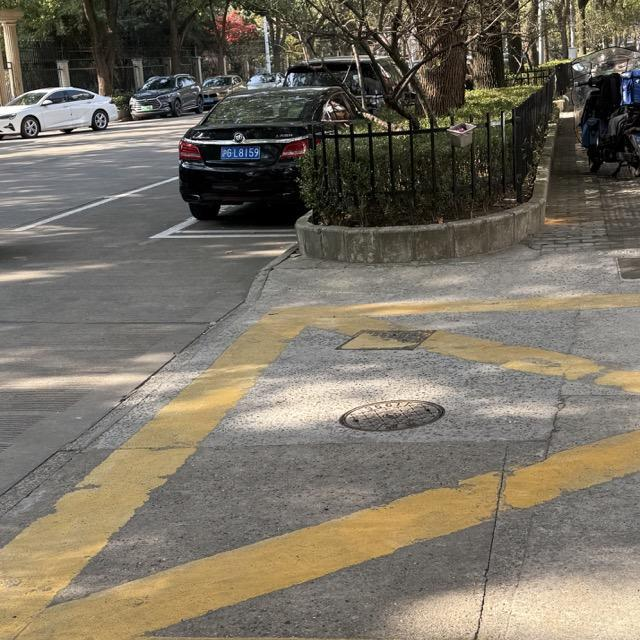curb: (0, 242, 298, 518), (295, 124, 556, 262)
